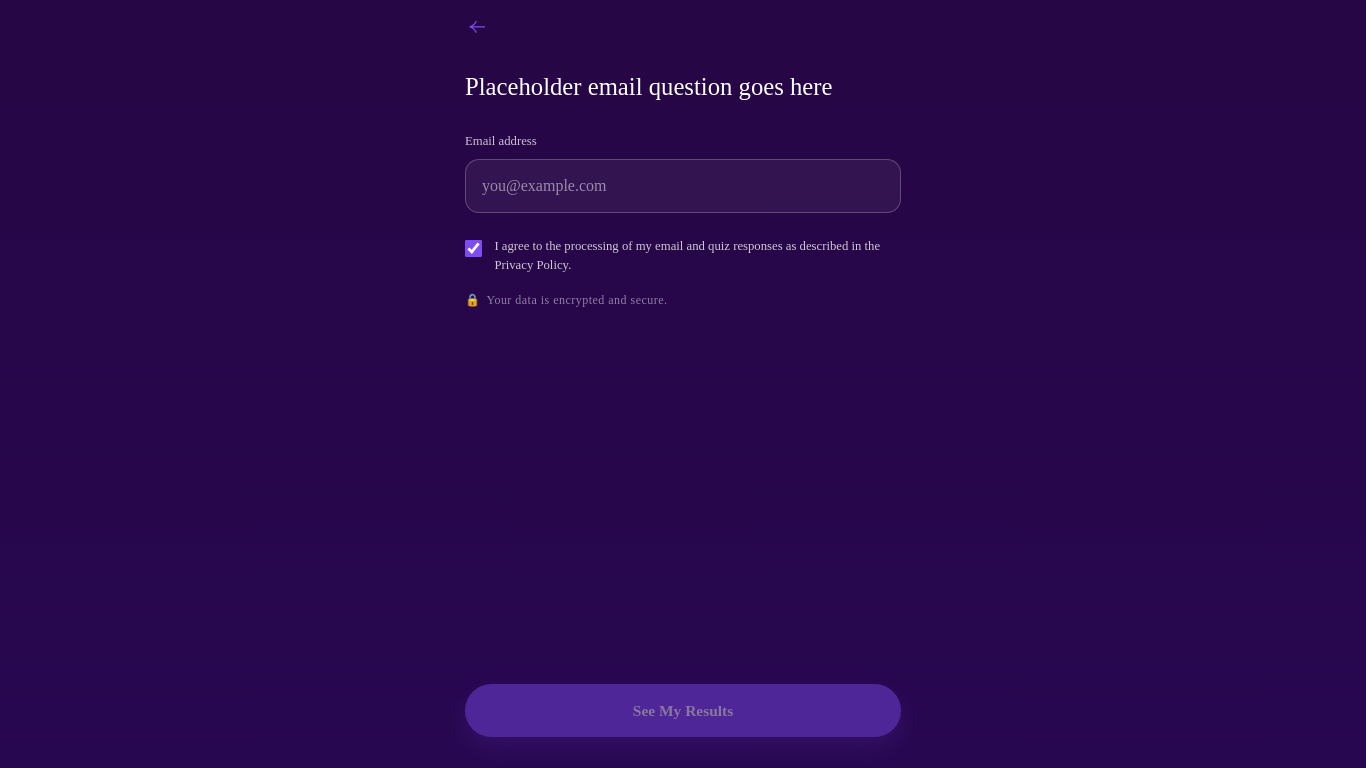
Test: Email Capture Consent UI › shows a retryable error when the backend does not save the lead
Type "test@example.com" into the field labelled "Email address". click: (683, 186)
box: [465,159,901,213]
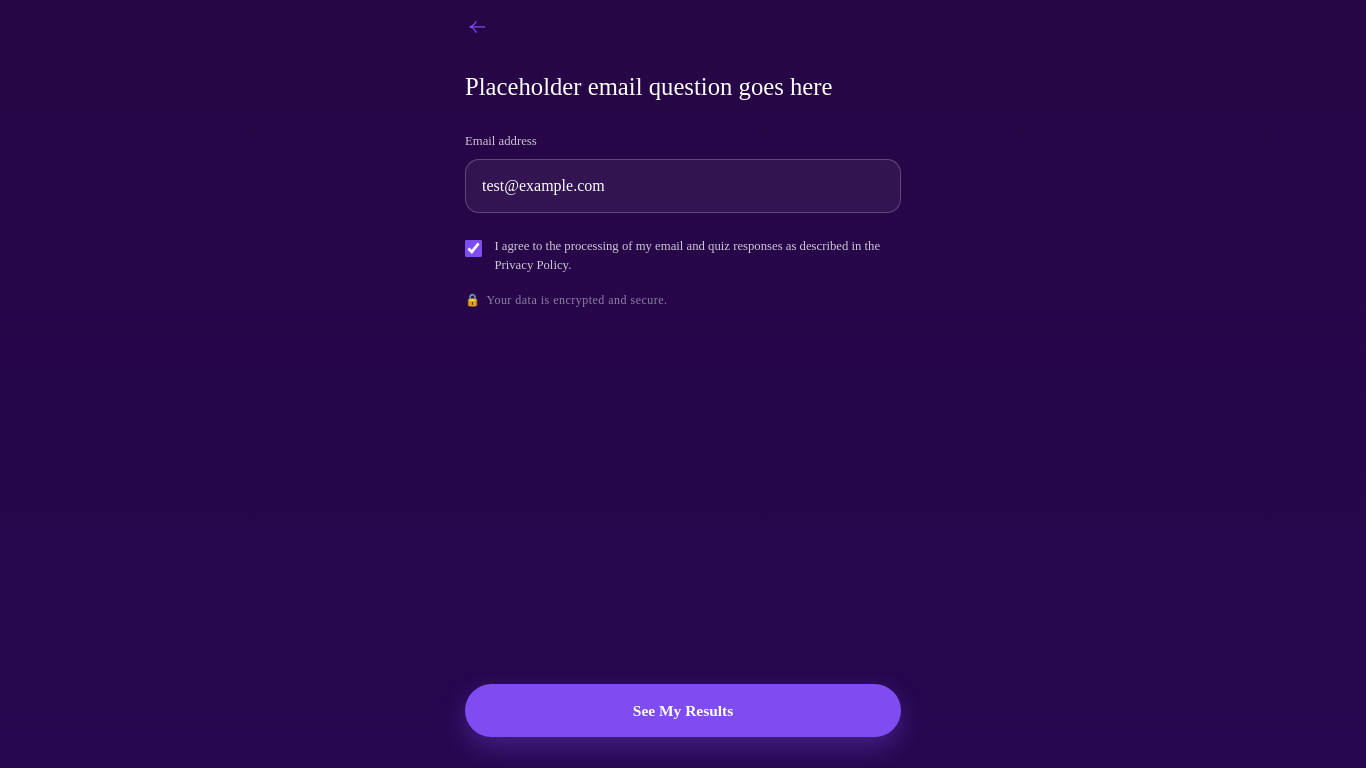
Click the button "See My Results". click: click(683, 710)
box: [465,684,901,737]
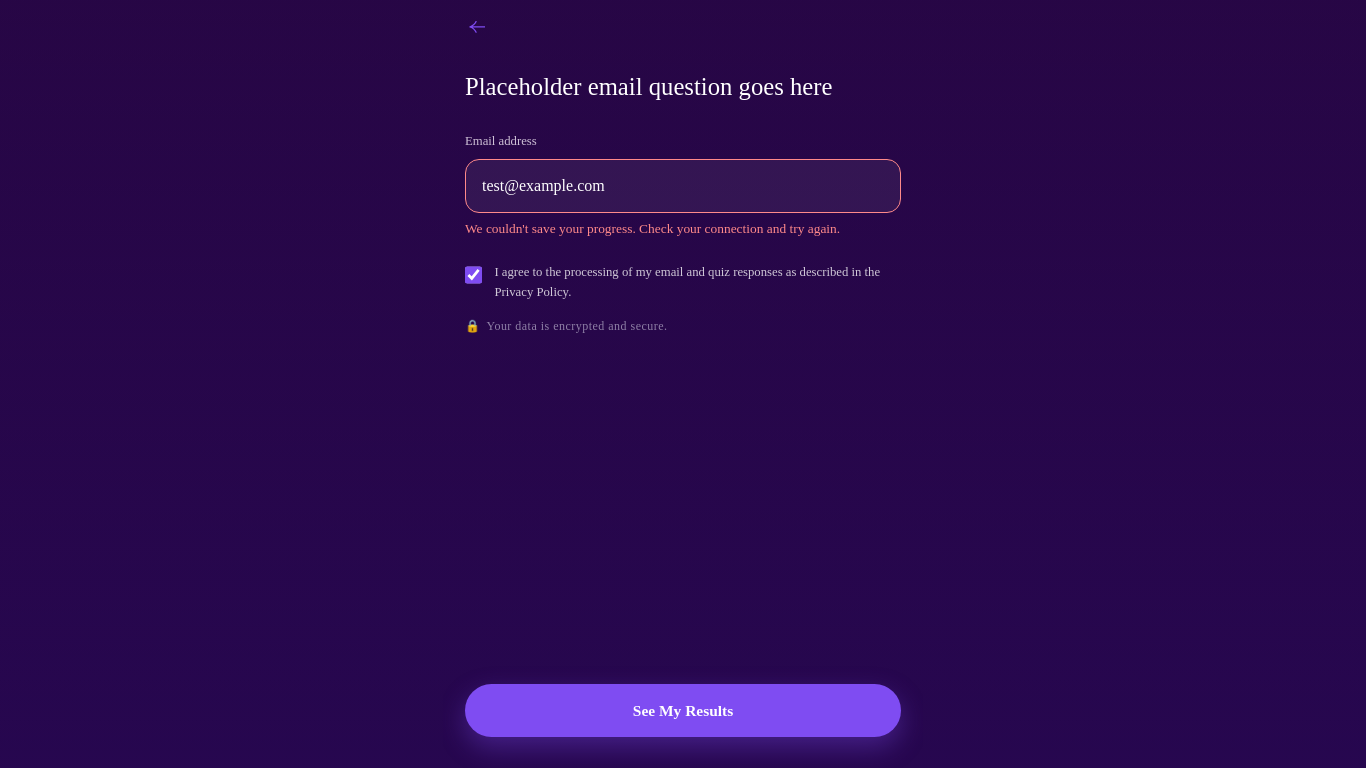
expect the button "See My Results" is enabled: met, box [465,684,901,737]
expect the message shows "couldn't save your progress": met, box [465,221,840,236]
